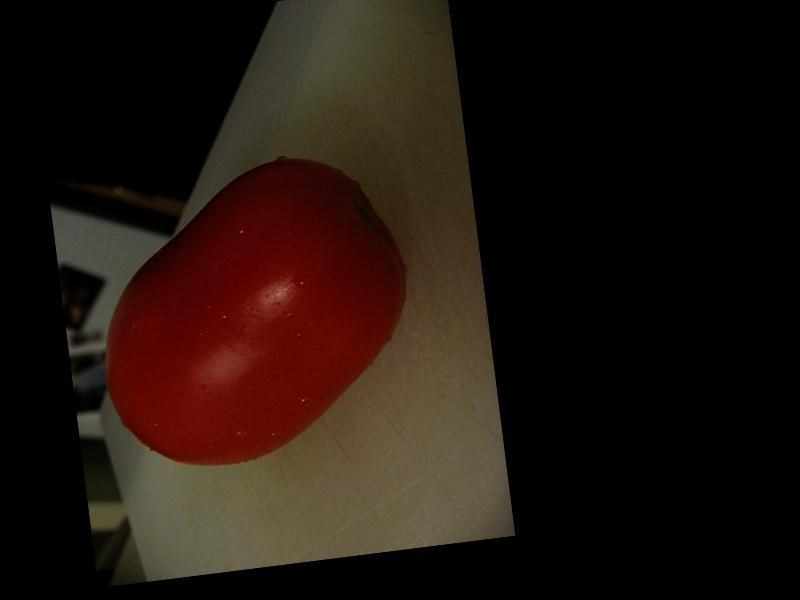Tomato: (80, 145, 424, 477)
